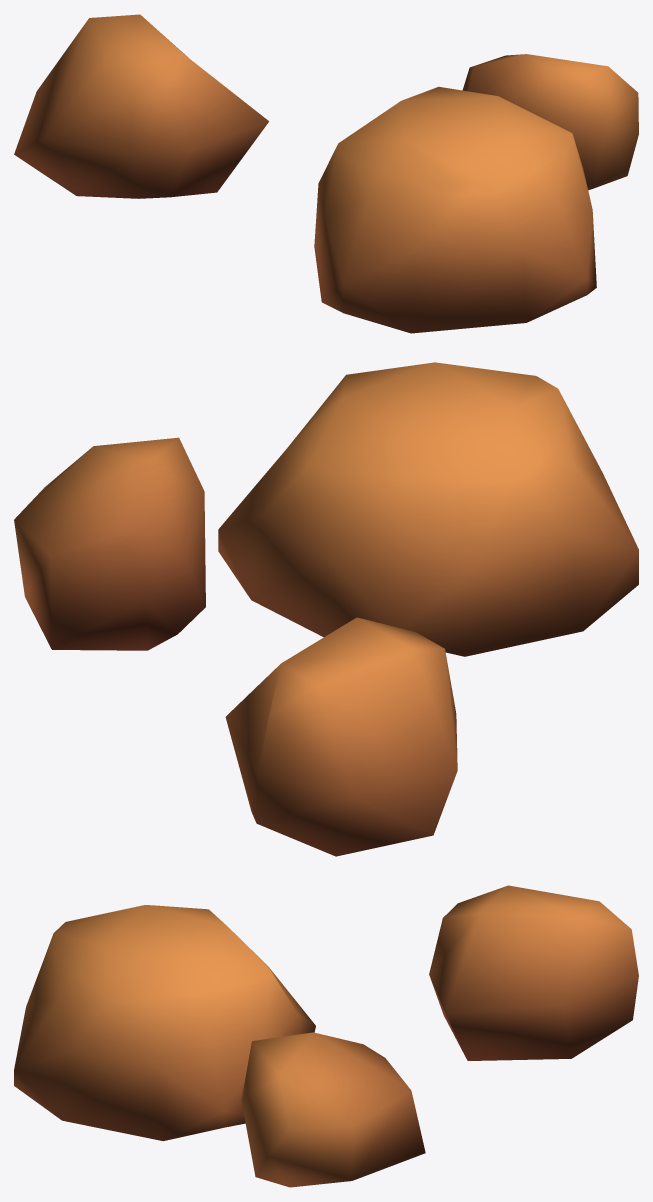
Rendered from m_Crumbs01.fbx.
3 views of the same model, one above another, from view 1: azimuth 30°, elevation 25°; view 2: azimuth 150°, elevation 25°; view 3: azimuth 270°, elevation 25° (orthographic). The views are drawn at different scales.
Visible parts, largest first — view 1: m_Crumbs01; view 2: m_Crumbs01; view 3: m_Crumbs01.
Part boxes in pixels (x1,y1,x2,y2): m_Crumbs01: (14, 14, 638, 333); m_Crumbs01: (14, 362, 638, 856); m_Crumbs01: (14, 885, 638, 1187).
Size of the model in its own units: 4.88 by 1.73 by 5.86.
